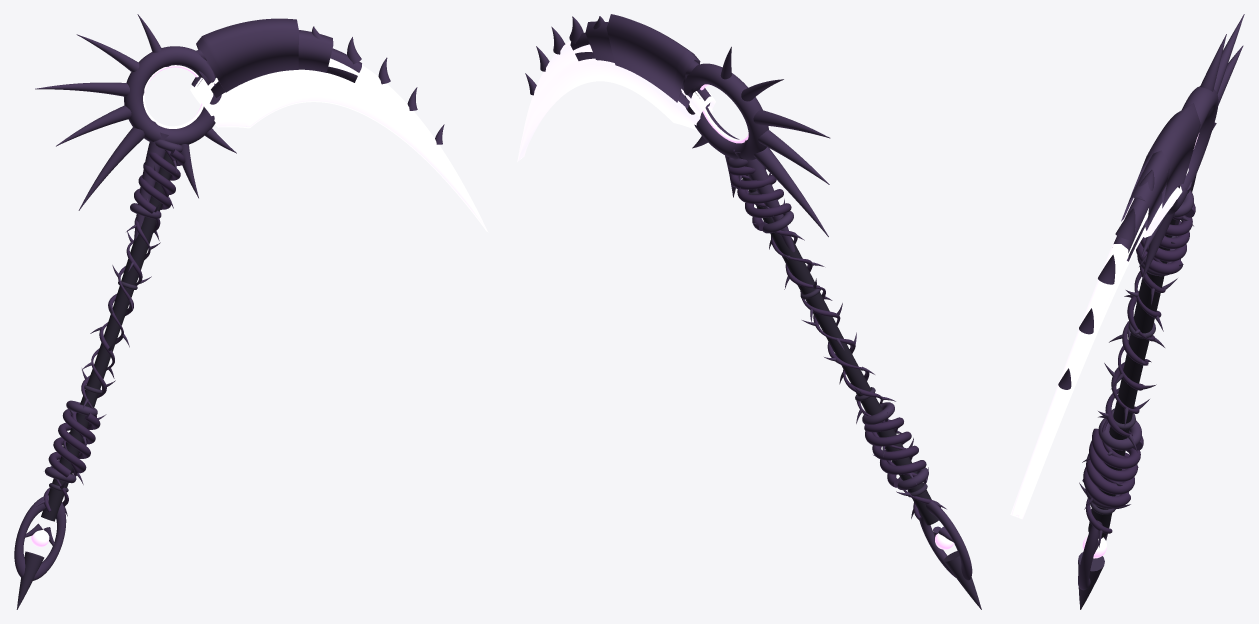
The model's file is voracity.glb.
3 views of the same model, side by side, from view 1: azimuth 30°, elevation 25°; view 2: azimuth 150°, elevation 25°; view 3: azimuth 270°, elevation 25° (orthographic). The views are drawn at different scales.
Parts seen in each view (by area): view 1: Blade, MantlePlate2, Ring, Shaft, FootFrame, MantlePlate1, Vine1, Crown208, Vine0, lowbind_strand1, lowbind_strand0, Crown262 (+6 smaller); view 2: Blade, MantlePlate2, Shaft, Ring, FootFrame, Vine1, Crown208, MantlePlate1, Vine0, lowbind_strand0, lowbind_strand1, upbind_strand1 (+5 smaller); view 3: Blade, Shaft, MantlePlate2, Ring, lowbind_strand1, lowbind_strand0, Vine0, MantlePlate1, Vine1, upbind_strand0, FootFrame, upbind_strand1 (+9 smaller).
Part boxes in pixels (x1,y1,x2,y2): Blade: (190, 58, 488, 232); MantlePlate2: (196, 18, 298, 92); Ring: (124, 46, 221, 144); Shaft: (41, 152, 175, 521); FootFrame: (14, 495, 66, 580); MantlePlate1: (199, 30, 333, 97); Vine1: (44, 185, 168, 512); Crown208: (78, 127, 144, 210); Vine0: (54, 150, 174, 506); lowbind_strand1: (48, 413, 100, 477); lowbind_strand0: (53, 409, 95, 473); Crown262: (35, 82, 129, 96); Blade: (517, 41, 715, 161); MantlePlate2: (606, 14, 700, 102); Shaft: (742, 175, 938, 525); Ring: (683, 63, 768, 160); FootFrame: (918, 501, 972, 580); Vine1: (742, 175, 940, 507); Crown208: (746, 147, 828, 236); MantlePlate1: (585, 21, 695, 108); Vine0: (733, 149, 926, 520); lowbind_strand0: (864, 417, 918, 487); lowbind_strand1: (865, 431, 926, 474); upbind_strand1: (730, 174, 791, 217); Blade: (1010, 168, 1188, 519); Shaft: (1088, 218, 1175, 537); MantlePlate2: (1131, 103, 1200, 208); Ring: (1167, 86, 1218, 215); lowbind_strand1: (1082, 428, 1140, 494); lowbind_strand0: (1083, 436, 1143, 507); Vine0: (1086, 188, 1187, 533); MantlePlate1: (1121, 151, 1170, 230); Vine1: (1091, 216, 1183, 511); upbind_strand0: (1136, 203, 1195, 274); FootFrame: (1078, 518, 1111, 590); upbind_strand1: (1140, 215, 1192, 261).
Size of the model in its own units: 1.69 by 1.85 by 0.5689.
